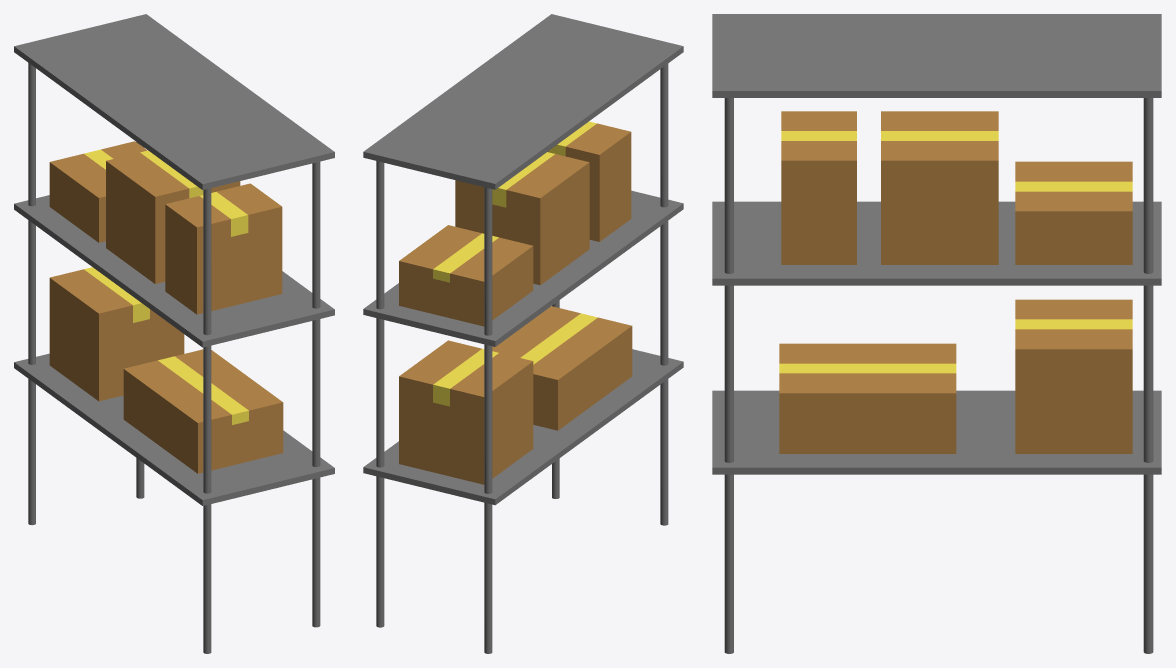
File: Shelf.FBX
The picture shows the model from 3 angles, left to right: view 1: azimuth 30°, elevation 25°; view 2: azimuth 150°, elevation 25°; view 3: azimuth 270°, elevation 25°; orthographic projection. The views are drawn at different scales.
Visible parts, largest first — view 1: Shelf; view 2: Shelf; view 3: Shelf.
Boxes of the visible parts, x1,y1,x2,y2 form: Shelf: (14,14,334,653); Shelf: (363,14,683,653); Shelf: (712,14,1161,653).
Bounding box in the file's own units: 31 × 107 × 76.56.
